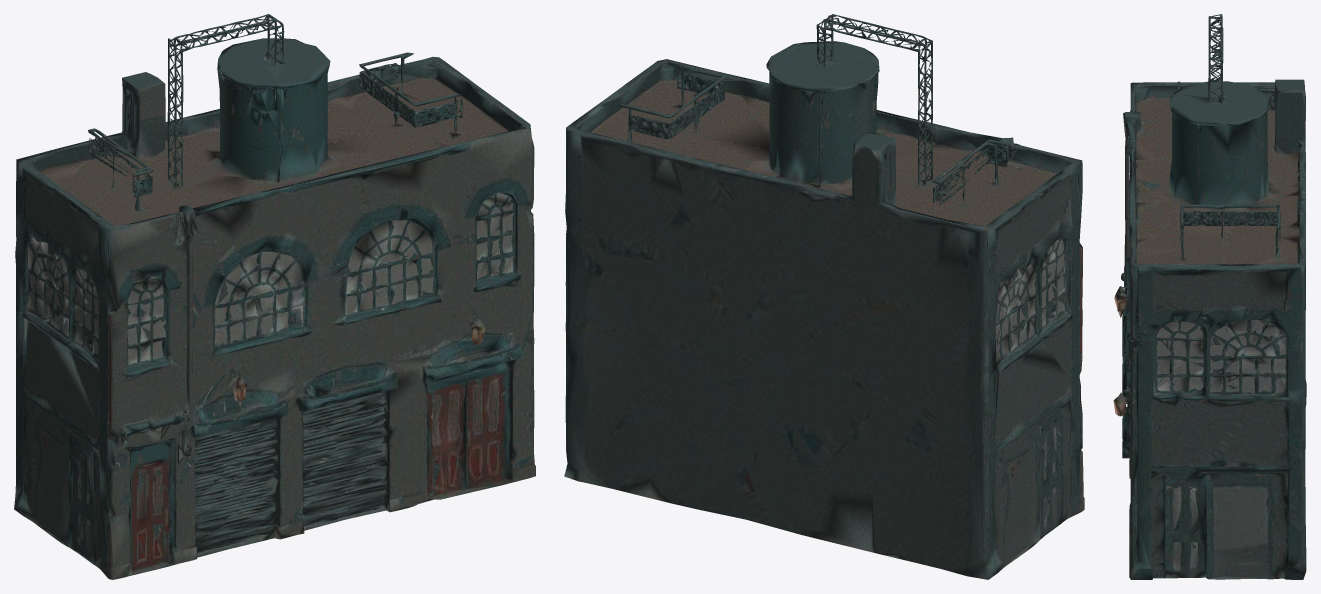
File: teleoperator_dispatchBuildingB.glb
3 renders of one model, left to right at view 1: azimuth 30°, elevation 25°; view 2: azimuth 150°, elevation 25°; view 3: azimuth 270°, elevation 25°, orthographic. The views are drawn at different scales.
Bounding box in the file's own units: 1.77 × 1.89 × 0.7723.
1 material, 1 textured.
